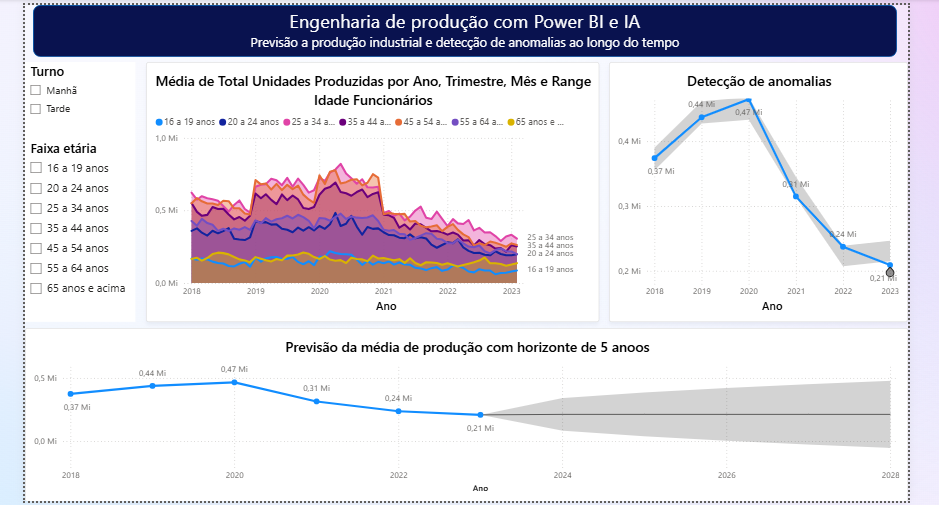

The dashboard page shown, as its layout file describes it:
{"tool":"powerbi","page":{"name":"Página 1","canvas":[1280,720],"ordinal":0},"visuals":[{"type":"lineChart","title":"Detecção de anomalias","fields":{"Category":["Producao.Período.Variation.Hierarquia de datas.Ano","Producao.Período.Variation.Hierarquia de datas.Trimestre","Producao.Período.Variation.Hierarquia de datas.Mês","Producao.Período.Variation.Hierarquia de datas.Dia"],"Y":["Avg(Producao.Total Unidades Produzidas)"]},"box":[846.7,82.1,433.3,376.7],"z":1},{"type":"lineChart","fields":{"Category":["Producao.Período.Variation.Hierarquia de datas.Ano","Producao.Período.Variation.Hierarquia de datas.Trimestre","Producao.Período.Variation.Hierarquia de datas.Mês","Producao.Período.Variation.Hierarquia de datas.Dia"],"Series":["Producao.Range Idade Funcionários"],"Y":["Avg(Producao.Total Unidades Produzidas)"]},"box":[175,82.1,656.7,376.7],"z":2},{"type":"slicer","fields":{"Values":["Producao.Turno"]},"box":[0,82.1,160,111.7],"z":3},{"type":"slicer","fields":{"Values":["Producao.Range Idade Funcionários"]},"box":[0,193.8,160,265],"z":4},{"type":"lineChart","title":"Previsão da média de produção com horizonte de 5 anoos","fields":{"Category":["Producao.Período.Variation.Hierarquia de datas.Ano","Producao.Período.Variation.Hierarquia de datas.Trimestre","Producao.Período.Variation.Hierarquia de datas.Mês","Producao.Período.Variation.Hierarquia de datas.Dia"],"Y":["Avg(Producao.Total Unidades Produzidas)"]},"box":[0,468,1280.2,252],"z":5},{"type":"shape","box":[11.6,0,1252.2,75.4],"z":6},{"type":"textbox","box":[11.6,0,1252.2,75.4],"z":7}]}

Visuals, with their boxes on the page's 1280x720 design canvas (x1, y1, x2, y2). These are canvas units, not pixel positions in the 939x505 screenshot, which may show the page scaled, cropped or inside an application window:
"Detecção de anomalias" lineChart: crop(847, 82, 1280, 459)
lineChart - Producao.Período.Variation.Hierarquia de datas.Ano x Producao.Período.Variation.Hierarquia de datas.Trimestre: crop(175, 82, 832, 459)
slicer - Producao.Turno: crop(0, 82, 160, 194)
slicer - Producao.Range Idade Funcionários: crop(0, 194, 160, 459)
"Previsão da média de produção com horizonte de 5 anoos" lineChart: crop(0, 468, 1280, 720)
shape: crop(12, 0, 1264, 75)
textbox: crop(12, 0, 1264, 75)
